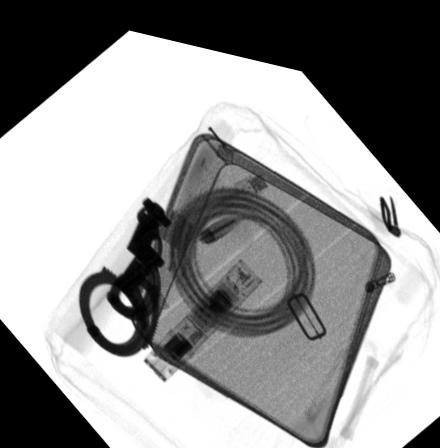Baton: (141, 244, 264, 376)
HandCuffs: (76, 186, 175, 351)
